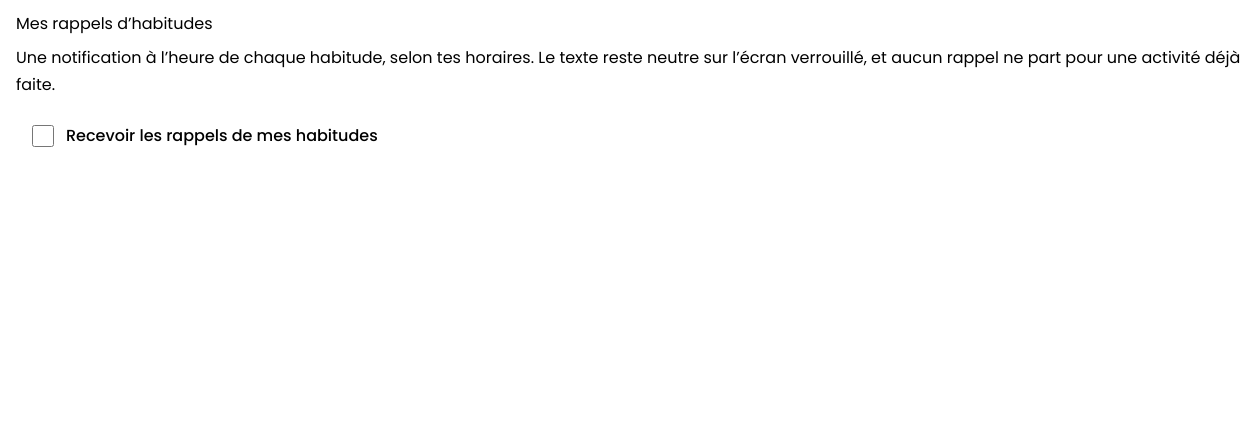
it: à l’activation, toutes les habitudes sont rappelées par défaut
Step 1. Click the switch labelled "Recevoir les rappels de mes habitudes" → (43,136), box [32,125,54,147]
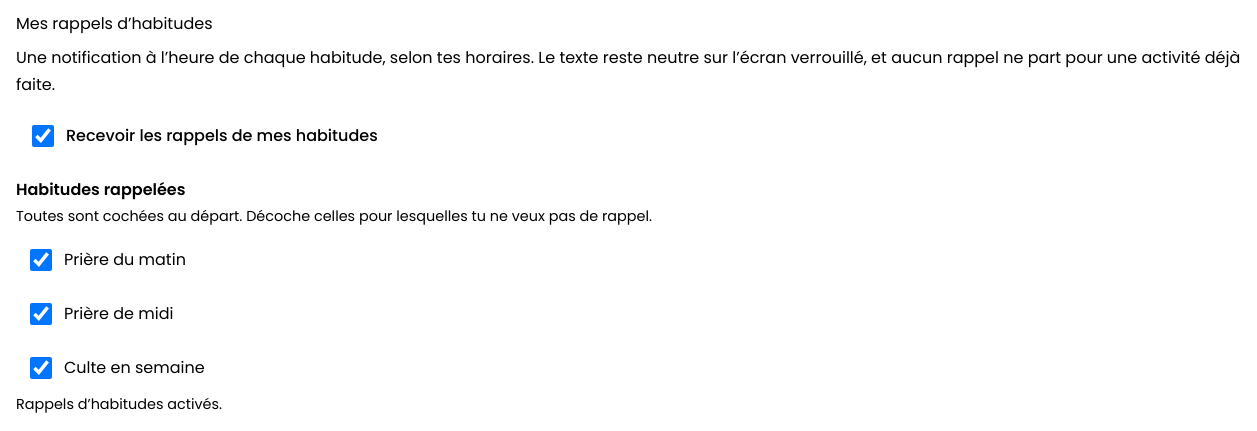
Check: the text "Rappels d’habitudes activés." is shown, box [16,394,222,414]
Check: the checkbox labelled "Prière du matin" is checked, box [30,249,52,271]
Check: the checkbox labelled "Prière de midi" is checked, box [30,303,52,325]
